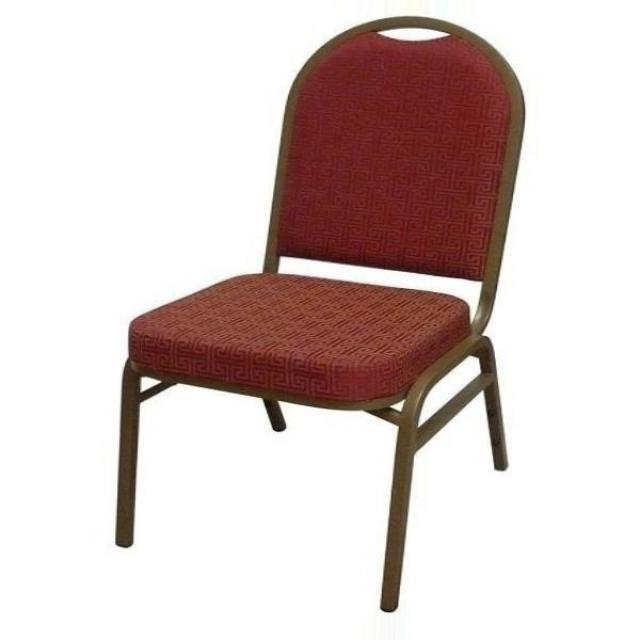Chair: (110, 6, 530, 614)
